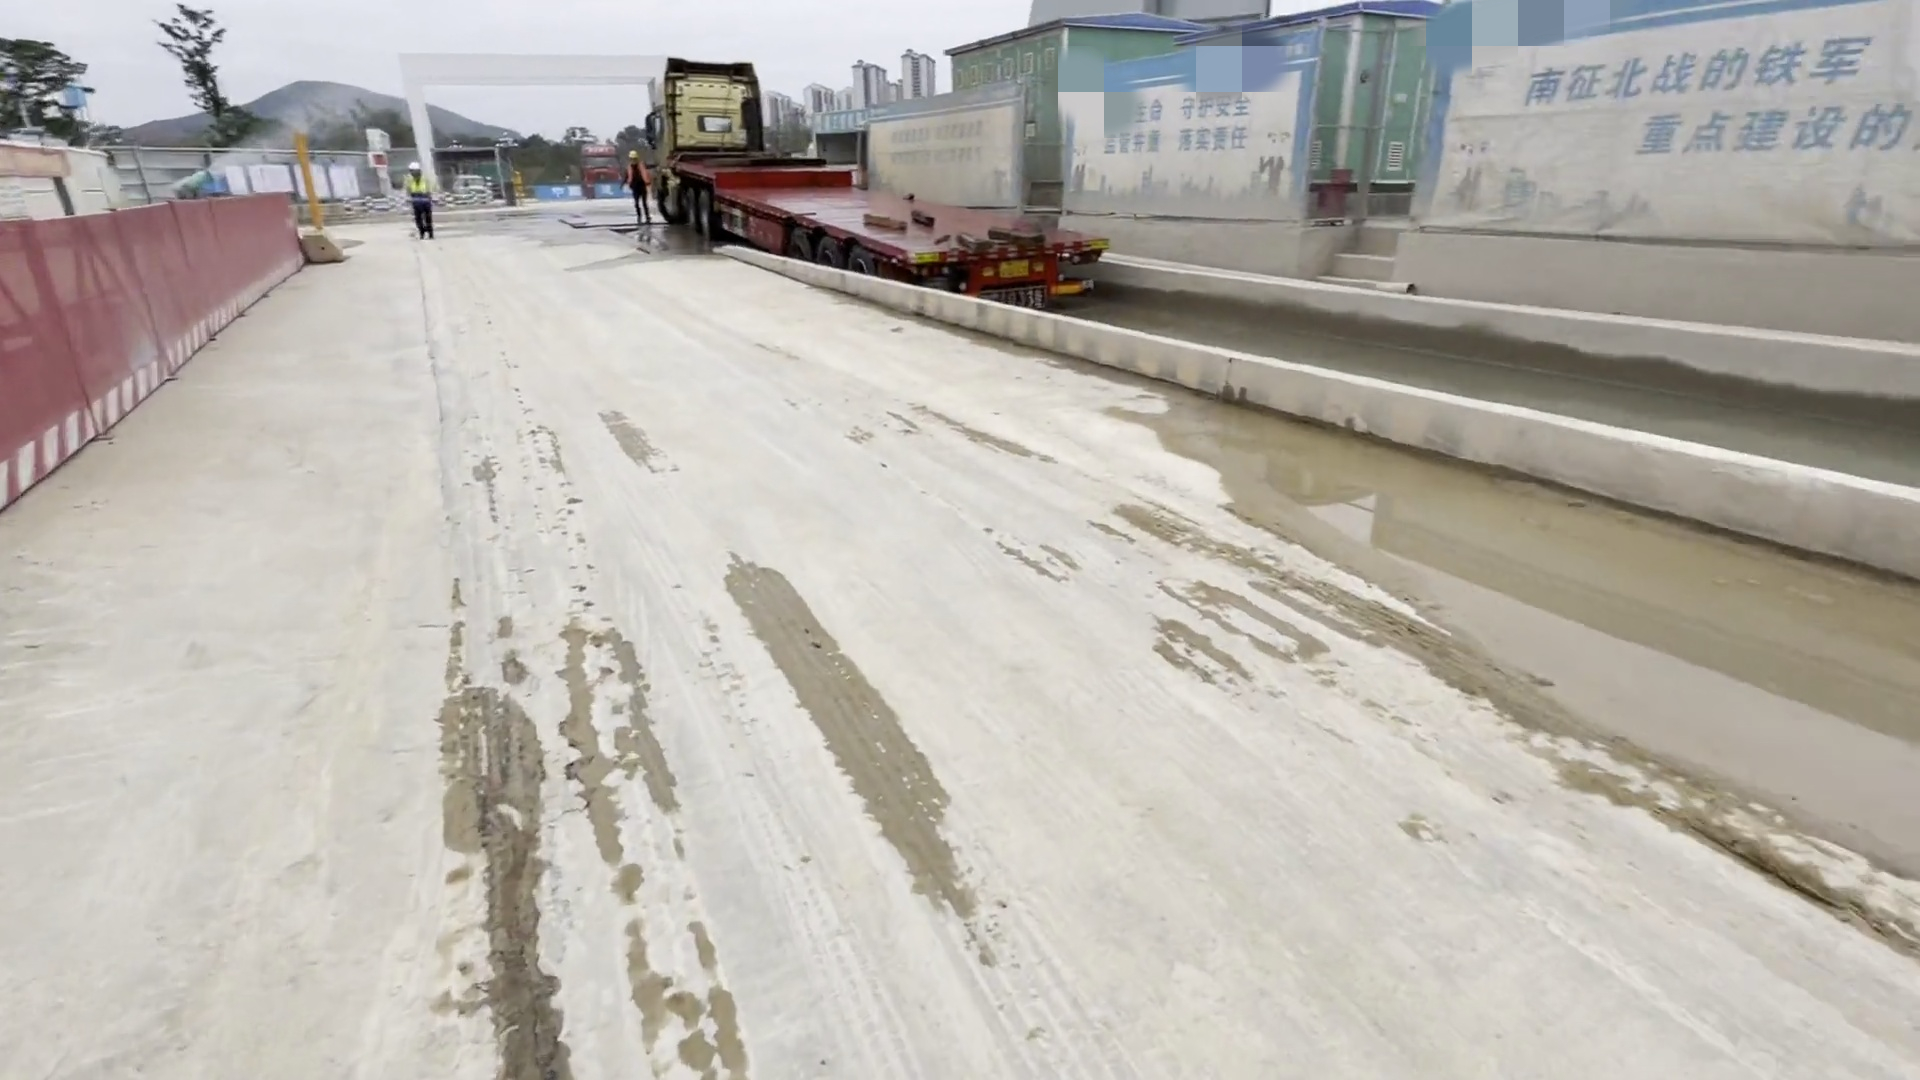fence: (8, 194, 306, 549)
person: (395, 153, 438, 244), (617, 146, 656, 240)
slogan: (847, 23, 1920, 252)
